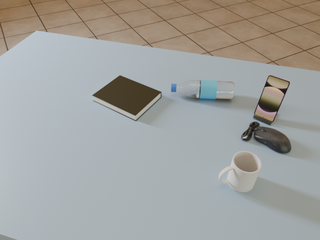book: (92, 75, 161, 121)
bottle: (171, 80, 235, 100)
cup: (219, 151, 261, 192)
mouse: (241, 122, 291, 153)
phone: (254, 75, 290, 122)
